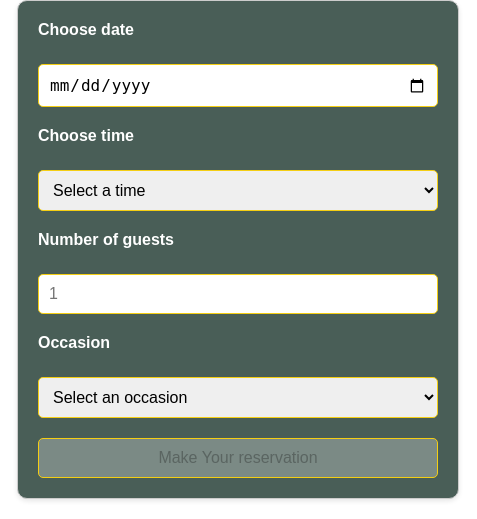
validates form input fields
The width and height of the screenshot is (477, 519).
Expected: the button "Make Your reservation" is disabled, [38, 438, 438, 478]
// Fill out the form
In the date field labelled "Choose date": (238, 86) [38, 64, 438, 107], type "2024-06-05"
Select "18:00" in the dropdown labelled "Choose time": (238, 190) [38, 170, 438, 211]
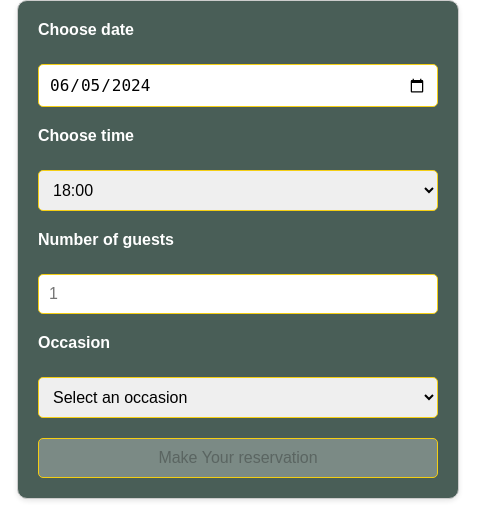
In the number field labelled "Number of guests": (238, 294) [38, 274, 438, 314], type "2"
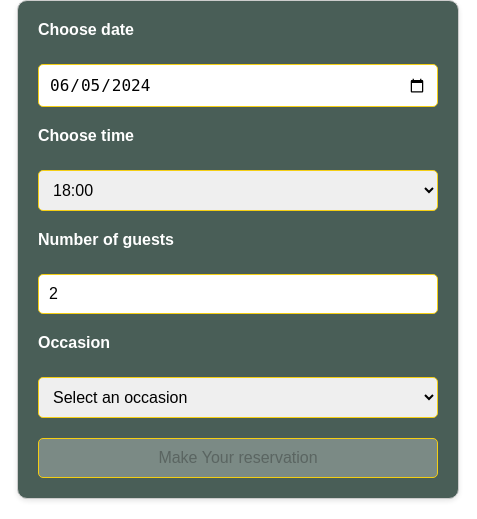
Select "Birthday" in the dropdown labelled "Occasion": (238, 398) [38, 377, 438, 418]
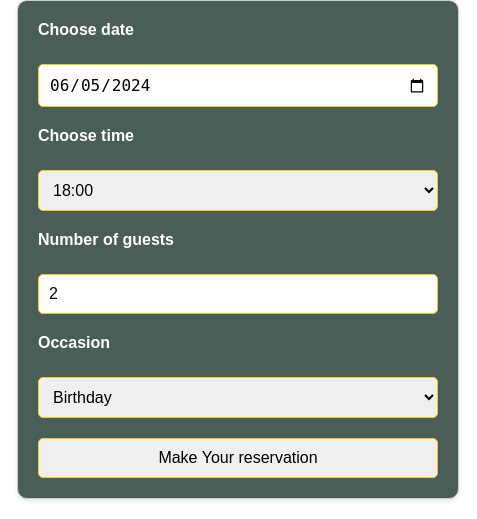
Result: the button "Make Your reservation" is enabled at [38, 438, 438, 478]
// Test invalid state by setting guests to an invalid value
Replace the text in the number field labelled "Number of guests" with "0": (238, 294) [38, 274, 438, 314]
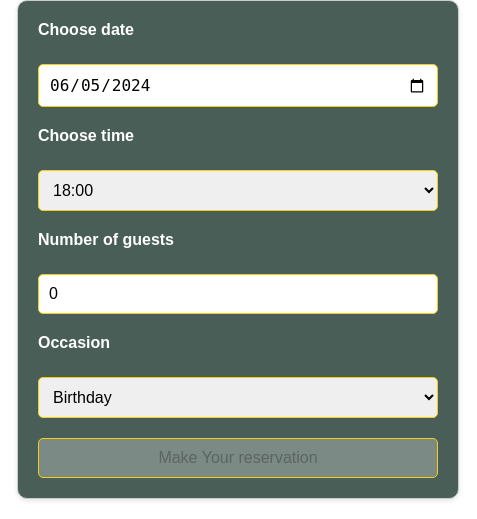
Result: the button "Make Your reservation" is disabled at [38, 438, 438, 478]
Replace the text in the number field labelled "Number of guests" with "11": (238, 294) [38, 274, 438, 314]
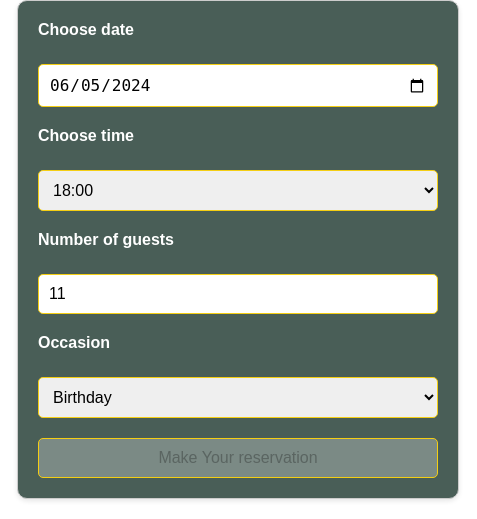
Result: the button "Make Your reservation" is disabled at [38, 438, 438, 478]
Replace the text in the number field labelled "Number of guests" with "2": (238, 294) [38, 274, 438, 314]
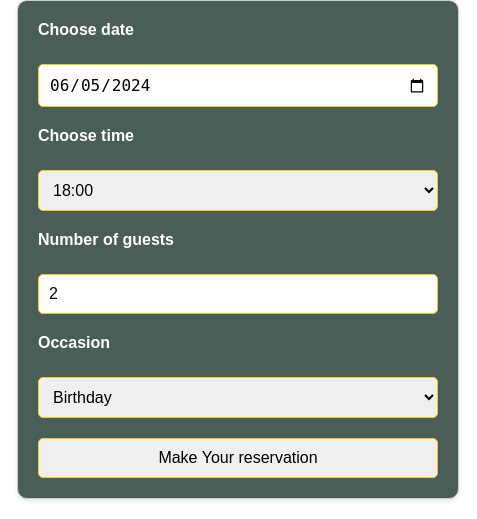
Result: the button "Make Your reservation" is enabled at [38, 438, 438, 478]
